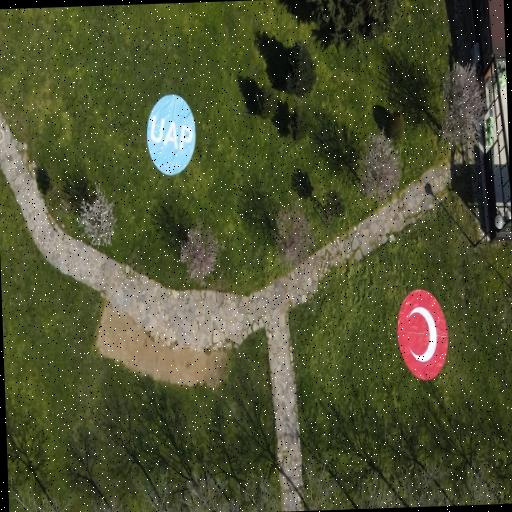UAI: (397, 289, 447, 379)
UAP: (147, 94, 195, 174)
